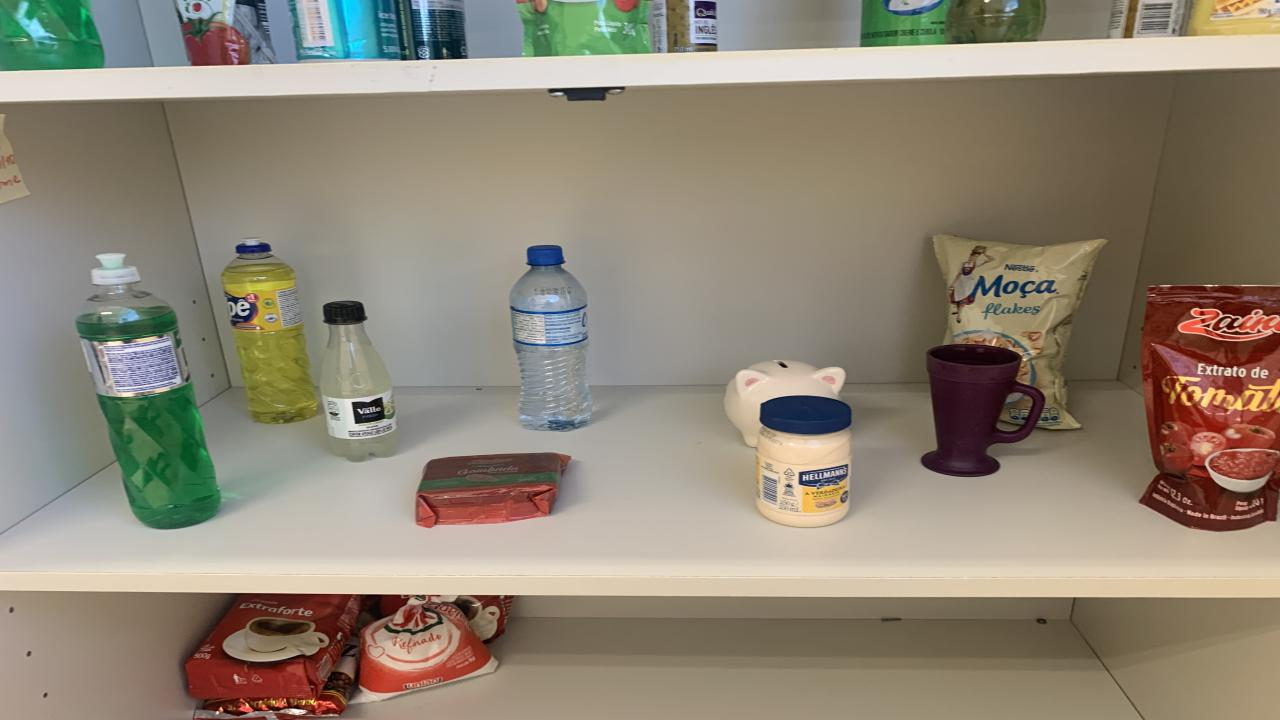Detergent-Cleanup_Items: (75, 255, 220, 529), (222, 238, 318, 424), (945, 0, 1045, 43)
English_Sauce-Pantry_Items: (1110, 0, 1190, 38), (665, 0, 718, 52)
Flakes-Snacks: (932, 234, 1108, 429)
Guarana_Can-Drinks: (410, 0, 468, 60)
Guava-Snacks: (415, 452, 570, 527)
Mayonnaise-Pantry_Items: (758, 396, 850, 527)
Mustard-Pantry_Items: (1188, 0, 1280, 36)
Pig_Safe-Miscellaneous: (725, 360, 845, 446)
Pringles-Snacks: (860, 0, 950, 47)
Soda-Drinks: (320, 302, 398, 461)
Tea-Drinks: (290, 0, 402, 62)
Tomato_Sauce-Pantry_Items: (1140, 285, 1280, 531), (518, 0, 652, 56), (175, 0, 278, 66)
Water_Bottle-Drinks: (510, 246, 592, 431)
